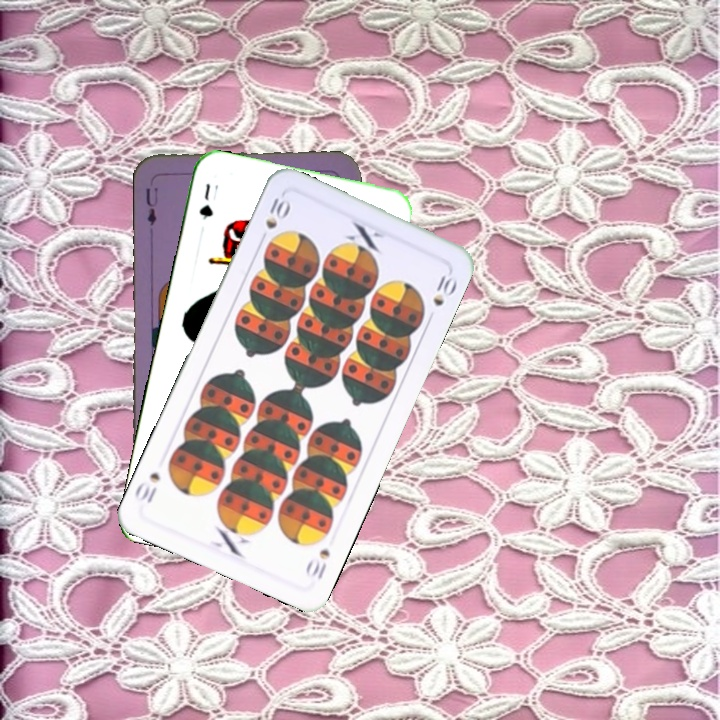EU: (142, 183, 160, 228)
GU: (195, 179, 216, 223)
S10: (255, 191, 293, 246), (301, 545, 333, 582)
